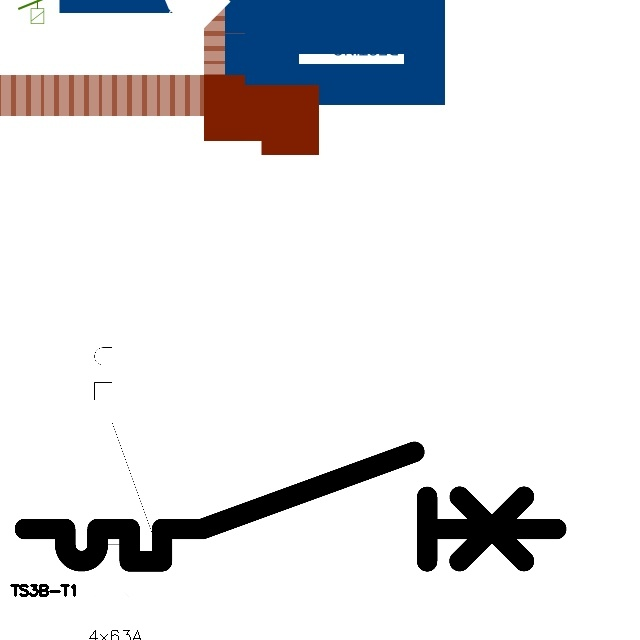interruptor_termomagnetico: (11, 438, 569, 575), (87, 318, 161, 622)
